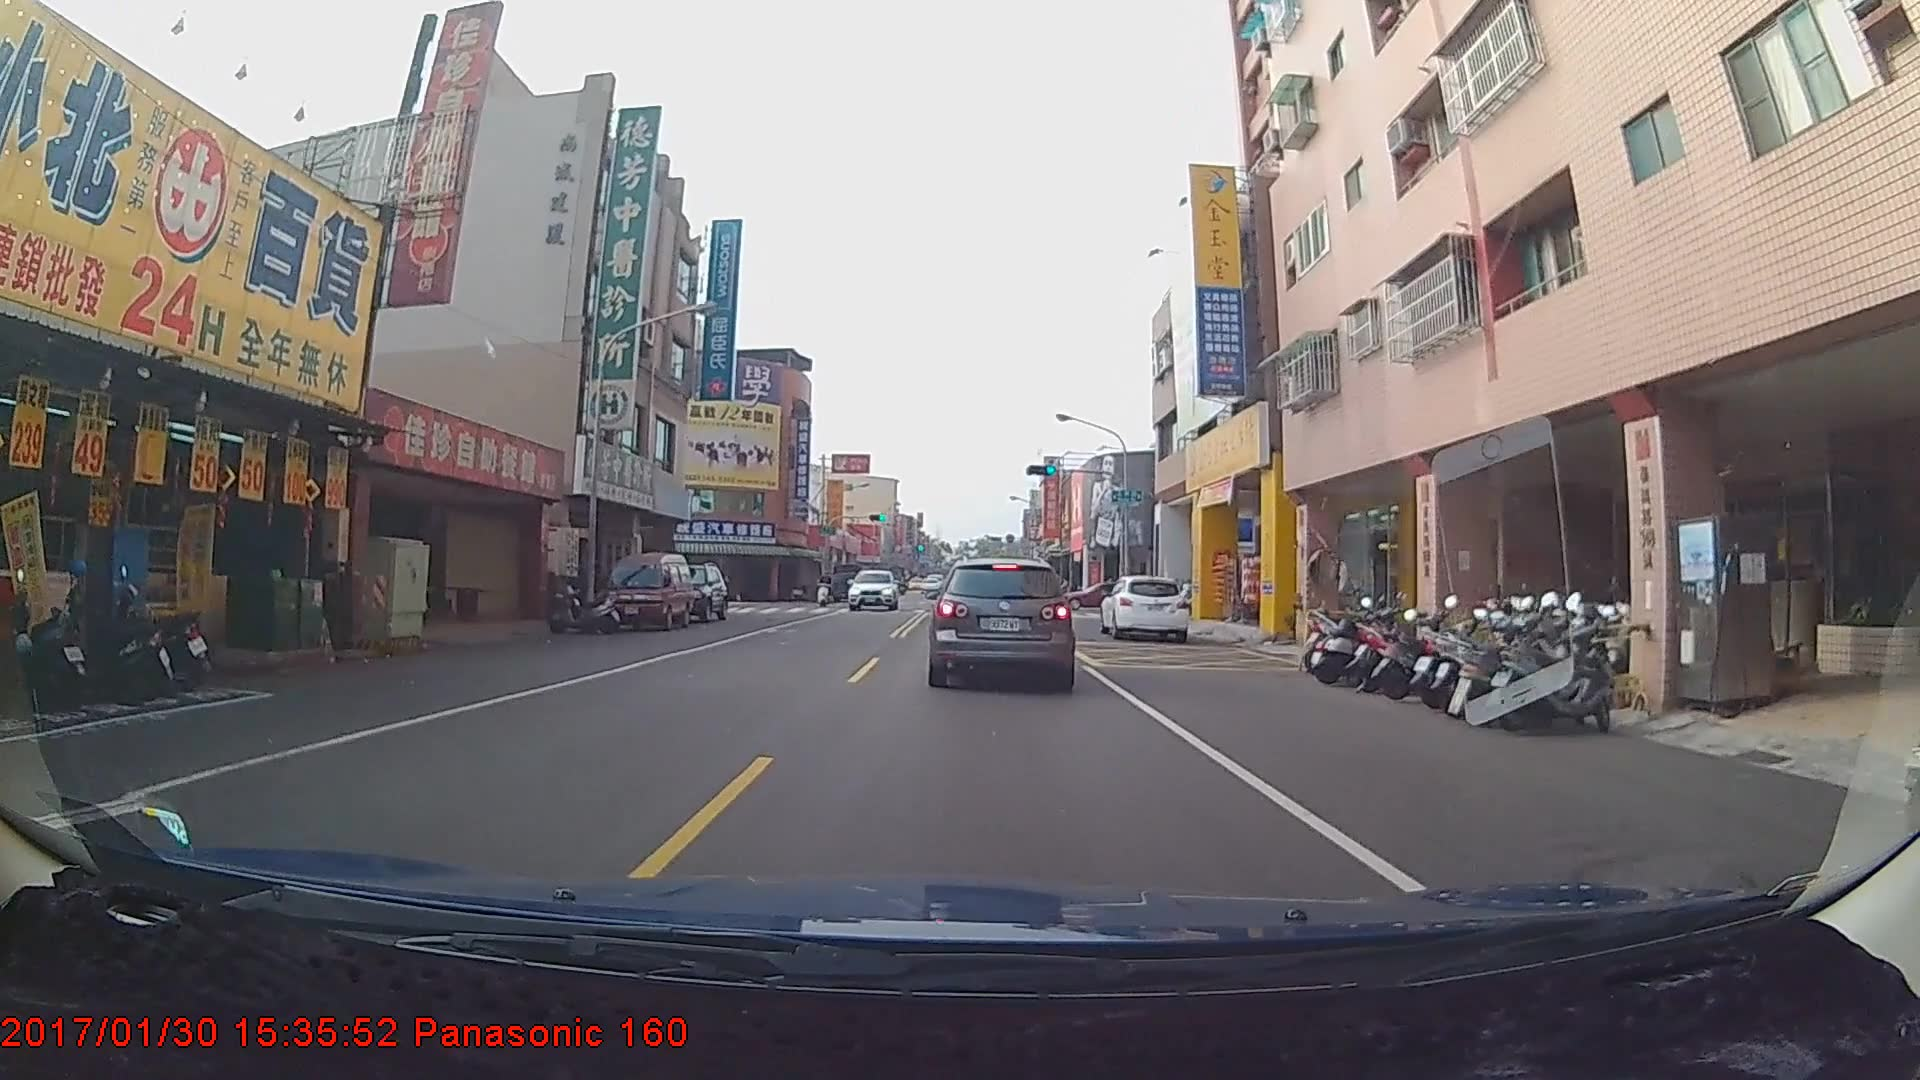rider: (817, 571, 839, 608)
vehicle: (931, 556, 1074, 687), (601, 560, 694, 637), (1099, 573, 1189, 643), (656, 563, 729, 626), (845, 575, 888, 612)
